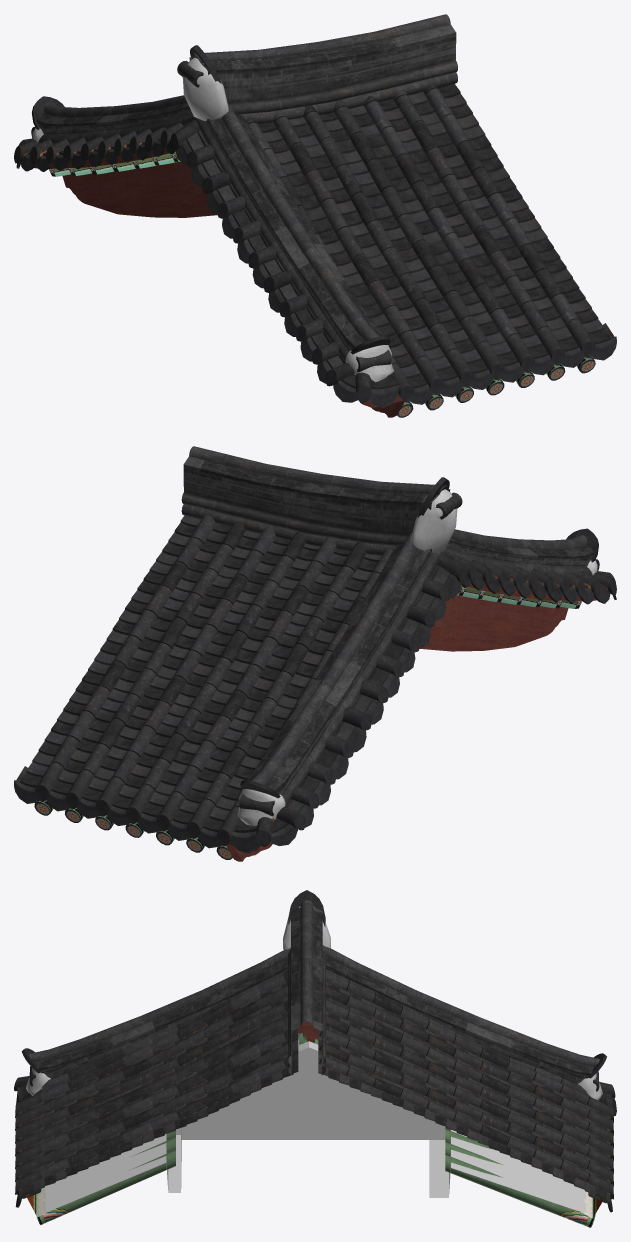
Rendered from SM_Giwa01E_a2.fbx.
The picture shows the model from 3 angles, top to bottom: view 1: azimuth 30°, elevation 25°; view 2: azimuth 150°, elevation 25°; view 3: azimuth 270°, elevation 25°; orthographic projection. The views are drawn at different scales.
Parts seen in each view (by area): view 1: SM_Giwa01E_a2; view 2: SM_Giwa01E_a2; view 3: SM_Giwa01E_a2.
Boxes of the visible parts, box(x1,y1,x2,y2) form: SM_Giwa01E_a2: box(14, 14, 616, 417); SM_Giwa01E_a2: box(14, 446, 616, 861); SM_Giwa01E_a2: box(14, 890, 616, 1227).
Size of the model in its own units: 281 by 612 by 267.
